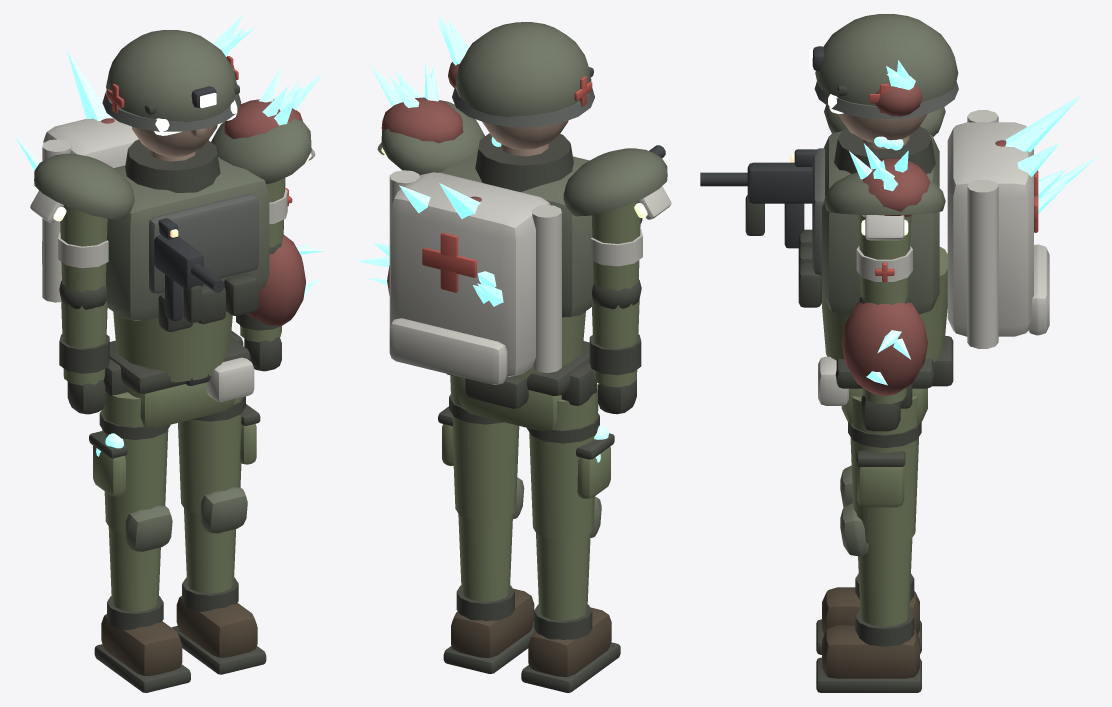
File: medic.glb
3 renders of one model, left to right at view 1: azimuth 30°, elevation 25°; view 2: azimuth 150°, elevation 25°; view 3: azimuth 270°, elevation 25°, orthographic. The views are drawn at different scales.
Parts seen in each view (by area): view 1: torso_mesh, head_mesh, knee_r_mesh, knee_l_mesh, leg_r_mesh, hips_mesh, leg_l_mesh, elbow_r_mesh, gun_mesh, arm_r_mesh, grow3_elbow_l, grow2_torso (+4 smaller); view 2: torso_mesh, head_mesh, knee_r_mesh, knee_l_mesh, leg_r_mesh, leg_l_mesh, hips_mesh, elbow_r_mesh, grow2_torso, arm_r_mesh, grow3_torso, grow3_head; view 3: torso_mesh, head_mesh, knee_l_mesh, leg_l_mesh, grow3_elbow_l, gun_mesh, hips_mesh, arm_l_mesh, grow2_torso, grow3_torso, knee_r_mesh, elbow_l_mesh (+1 smaller).
Part boxes in pixels (x1=…): torso_mesh: x1=30, y1=117, x2=315, y2=382; head_mesh: x1=102, y1=30, x2=241, y2=161; knee_r_mesh: x1=94, y1=505, x2=190, y2=692; knee_l_mesh: x1=171, y1=487, x2=266, y2=674; leg_r_mesh: x1=89, y1=392, x2=170, y2=532; hips_mesh: x1=103, y1=331, x2=254, y2=427; leg_l_mesh: x1=178, y1=396, x2=260, y2=514; elbow_r_mesh: x1=59, y1=281, x2=109, y2=414; gun_mesh: x1=154, y1=218, x2=224, y2=322; arm_r_mesh: x1=58, y1=205, x2=108, y2=292; grow3_elbow_l: x1=254, y1=235, x2=326, y2=326; grow2_torso: x1=224, y1=66, x2=322, y2=138; torso_mesh: x1=377, y1=100, x2=671, y2=384; head_mesh: x1=452, y1=22, x2=594, y2=156; knee_r_mesh: x1=521, y1=496, x2=620, y2=692; knee_l_mesh: x1=443, y1=477, x2=534, y2=673; leg_r_mesh: x1=527, y1=384, x2=614, y2=540; leg_l_mesh: x1=438, y1=375, x2=519, y2=521; hips_mesh: x1=446, y1=341, x2=596, y2=431; elbow_r_mesh: x1=589, y1=279, x2=641, y2=414; grow2_torso: x1=370, y1=62, x2=463, y2=143; arm_r_mesh: x1=590, y1=201, x2=642, y2=290; grow3_torso: x1=399, y1=183, x2=503, y2=306; grow3_head: x1=437, y1=15, x2=468, y2=87; torso_mesh: x1=798, y1=105, x2=1049, y2=362; head_mesh: x1=809, y1=14, x2=958, y2=148; knee_l_mesh: x1=816, y1=503, x2=921, y2=692; leg_l_mesh: x1=848, y1=396, x2=921, y2=545; grow3_elbow_l: x1=841, y1=302, x2=927, y2=395; gun_mesh: x1=700, y1=149, x2=817, y2=248; hips_mesh: x1=818, y1=336, x2=953, y2=423; arm_l_mesh: x1=856, y1=214, x2=912, y2=304; grow2_torso: x1=849, y1=143, x2=929, y2=217; grow3_torso: x1=995, y1=95, x2=1096, y2=213; knee_r_mesh: x1=816, y1=465, x2=921, y2=654; elbow_l_mesh: x1=859, y1=297, x2=910, y2=431.
Size of the model in its own units: 0.874 by 1.81 by 1.01.
